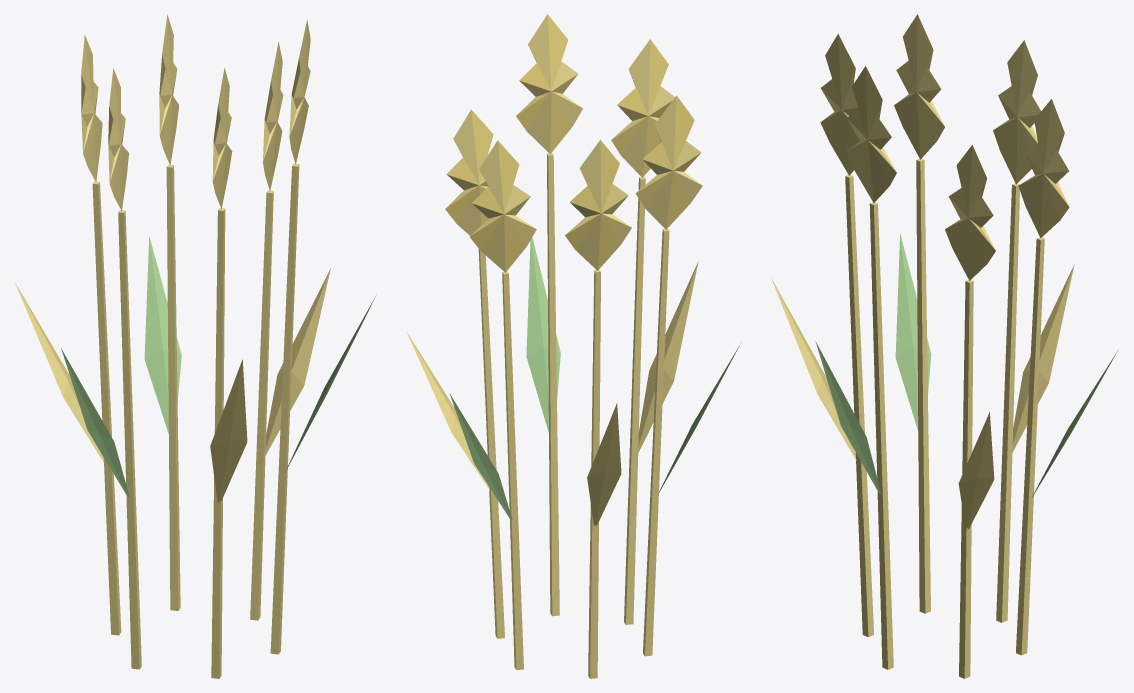
The model's file is crop_wheat_s3.glb.
The picture shows the model from 3 angles, left to right: view 1: azimuth 30°, elevation 25°; view 2: azimuth 150°, elevation 25°; view 3: azimuth 270°, elevation 25°; orthographic projection. The views are drawn at different scales.
Parts seen in each view (by area): view 1: crop_wheat_s3; view 2: crop_wheat_s3; view 3: crop_wheat_s3.
Part boxes in pixels (<box>): crop_wheat_s3: <box>15,14,375,678</box>; crop_wheat_s3: <box>407,14,741,678</box>; crop_wheat_s3: <box>771,14,1117,678</box>.
Size of the model in its own units: 0.5523 by 1.06 by 0.5488.
